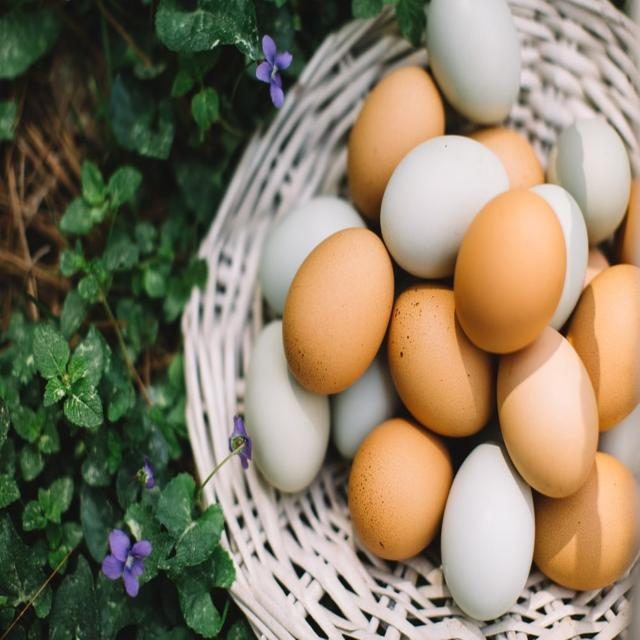Egg: (245, 0, 640, 618)
